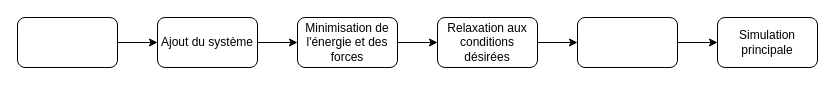
Image size: 835x85. Some labels were removed from this diagram. The centre of each missing label's shape, as x and y in pixels:
"Définition des paramètres de simulation" goes at (67,42).
"Stabilisation aux conditions" goes at (627,42).
